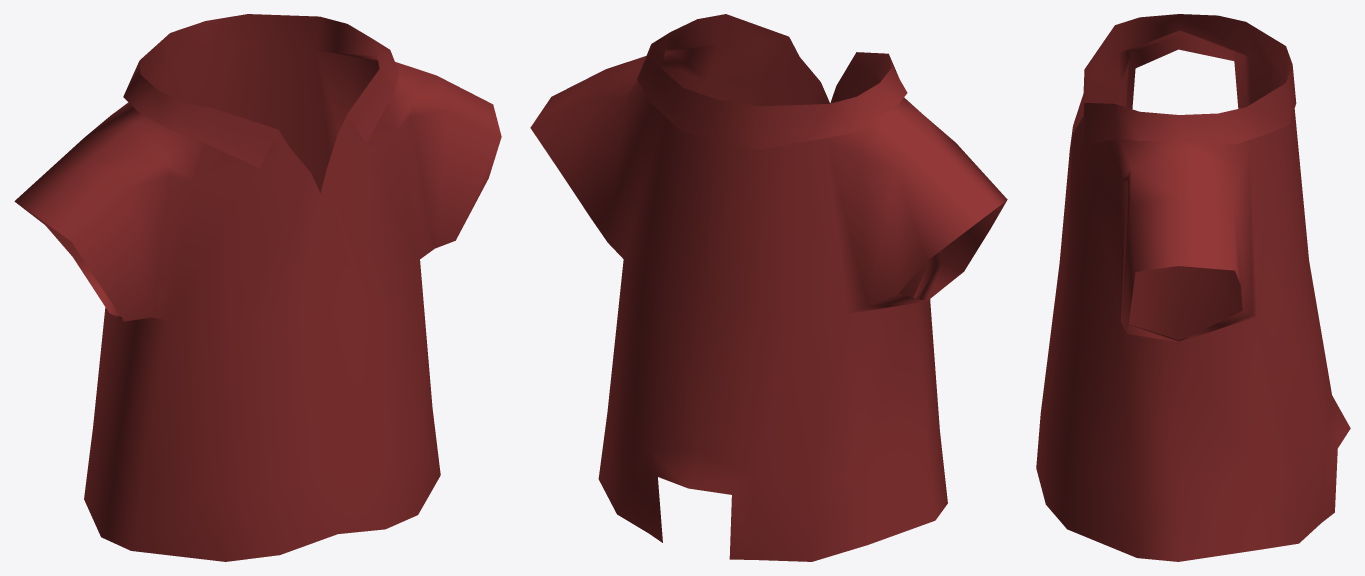
The model's file is CatRedShirt.fbx.
3 renders of one model, left to right at view 1: azimuth 30°, elevation 25°; view 2: azimuth 150°, elevation 25°; view 3: azimuth 270°, elevation 25°, orthographic. The views are drawn at different scales.
Parts seen in each view (by area): view 1: RedShirt; view 2: RedShirt; view 3: RedShirt.
Part boxes in pixels (box(x1,y1,x2,y2)): RedShirt: box(14, 14, 501, 561); RedShirt: box(530, 14, 1007, 561); RedShirt: box(1036, 14, 1350, 561).
Bounding box in the file's own units: 40.19 × 37.43 × 24.67.
